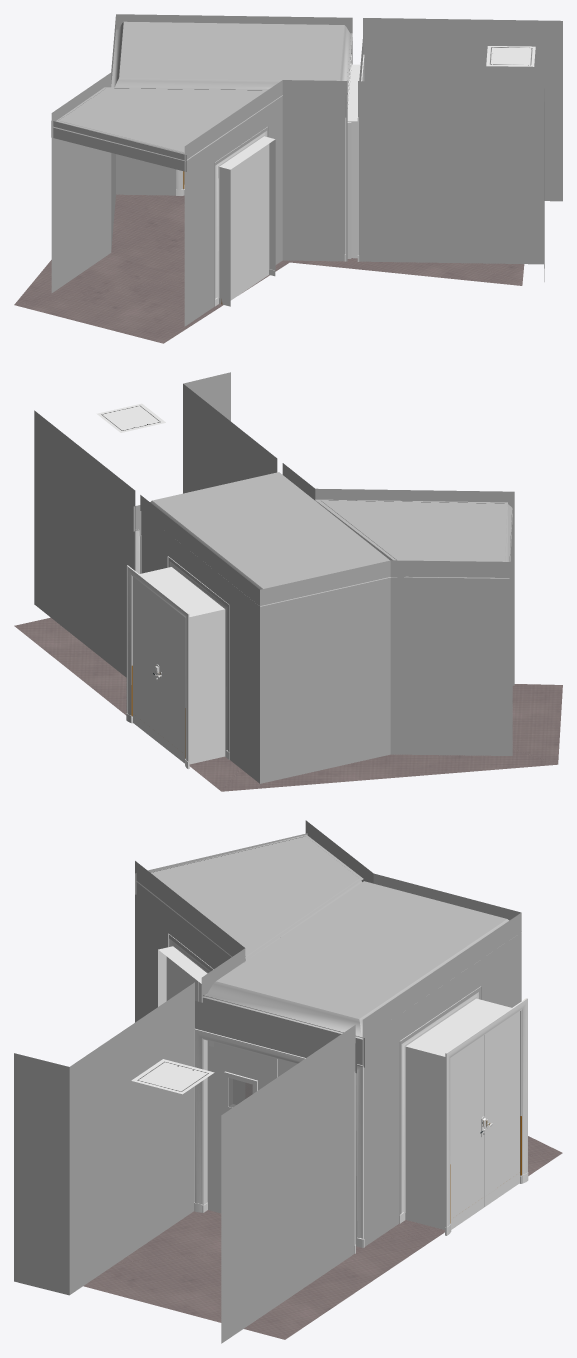
Rendered from HallwaySceene2_Right.fbx.
3 renders of one model, top to bottom at view 1: azimuth 30°, elevation 25°; view 2: azimuth 150°, elevation 25°; view 3: azimuth 270°, elevation 25°, orthographic. The views are drawn at different scales.
Visible parts, largest first — view 1: polySurface1608, polySurface1747, polySurface1607, polySurface1701; view 2: polySurface1608, polySurface1747, polySurface1607; view 3: polySurface1608, polySurface1747, polySurface1701, polySurface1607.
Part boxes in pixels (x1,y1,x2,y2): polySurface1608: (14, 14, 562, 343); polySurface1747: (176, 54, 364, 306); polySurface1607: (53, 22, 352, 160); polySurface1701: (347, 122, 351, 258); polySurface1608: (14, 372, 562, 791); polySurface1747: (126, 529, 229, 769); polySurface1607: (150, 500, 512, 606); polySurface1608: (14, 820, 562, 1343); polySurface1747: (158, 933, 528, 1253); polySurface1701: (207, 1040, 277, 1213); polySurface1607: (136, 836, 509, 1039).
Size of the model in its own units: 868 by 289 by 629.
